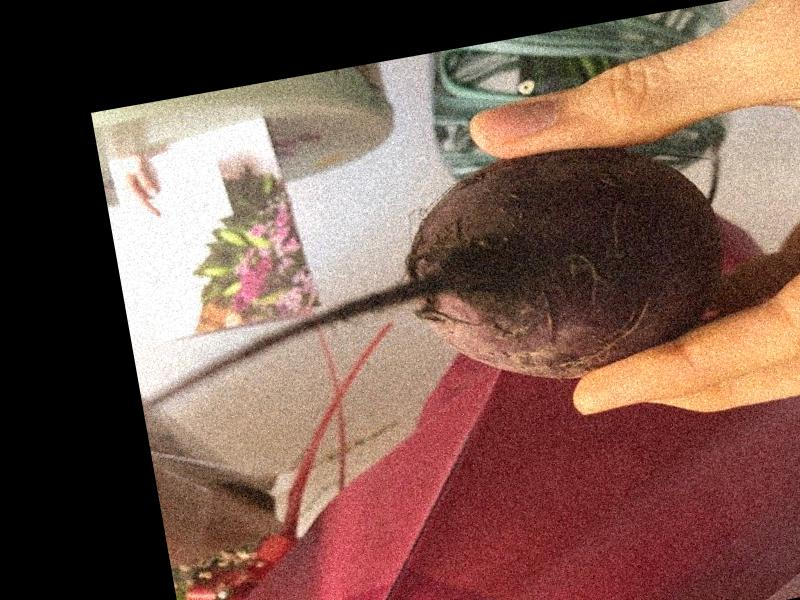Beet: (110, 122, 748, 452)
